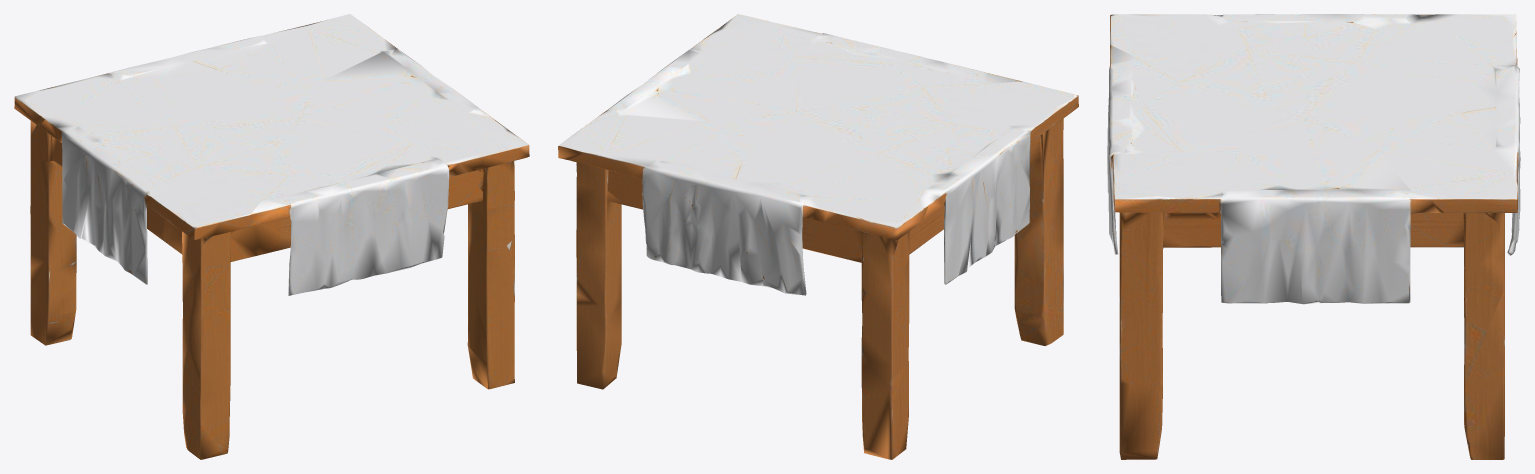
File: diningTable.glb
3 views of the same model, side by side, from view 1: azimuth 30°, elevation 25°; view 2: azimuth 150°, elevation 25°; view 3: azimuth 270°, elevation 25° (orthographic). The views are drawn at different scales.
Size of the model in its own units: 1.9 by 1.27 by 1.77.
Materials: 1 (1 with a texture image).
